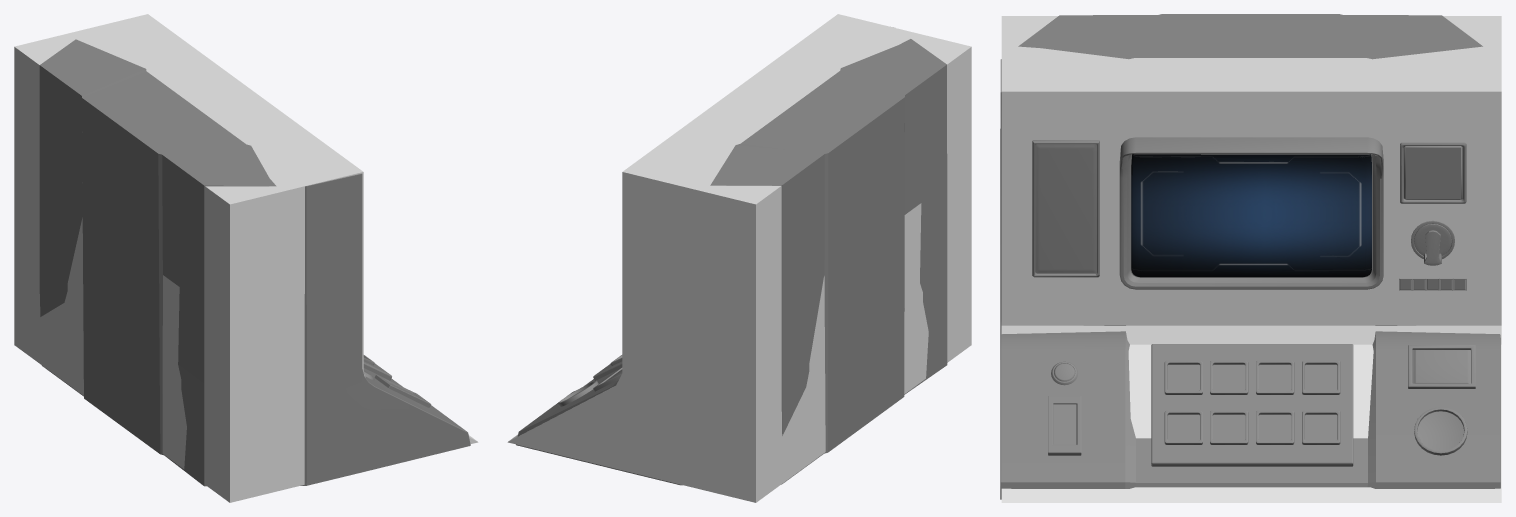
The model's file is Hub_Computer.fbx.
3 renders of one model, left to right at view 1: azimuth 30°, elevation 25°; view 2: azimuth 150°, elevation 25°; view 3: azimuth 270°, elevation 25°, orthographic. The views are drawn at different scales.
Visible parts, largest first — view 1: Computer_Base, c_Computer_Base; view 2: c_Computer_Base, Computer_Base; view 3: Computer_Base, c_Computer_Base.
Boxes of the visible parts, x1,y1,x2,y2 form: Computer_Base: (39,39,470,486); c_Computer_Base: (14,14,478,502); c_Computer_Base: (507,14,971,502); Computer_Base: (516,27,947,485); Computer_Base: (1000,14,1500,499); c_Computer_Base: (1001,16,1501,502).
Bounding box in the file's own units: 173 × 133 × 116.
